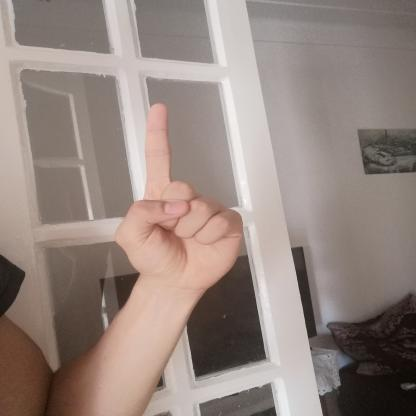BAA: (104, 94, 258, 296)
